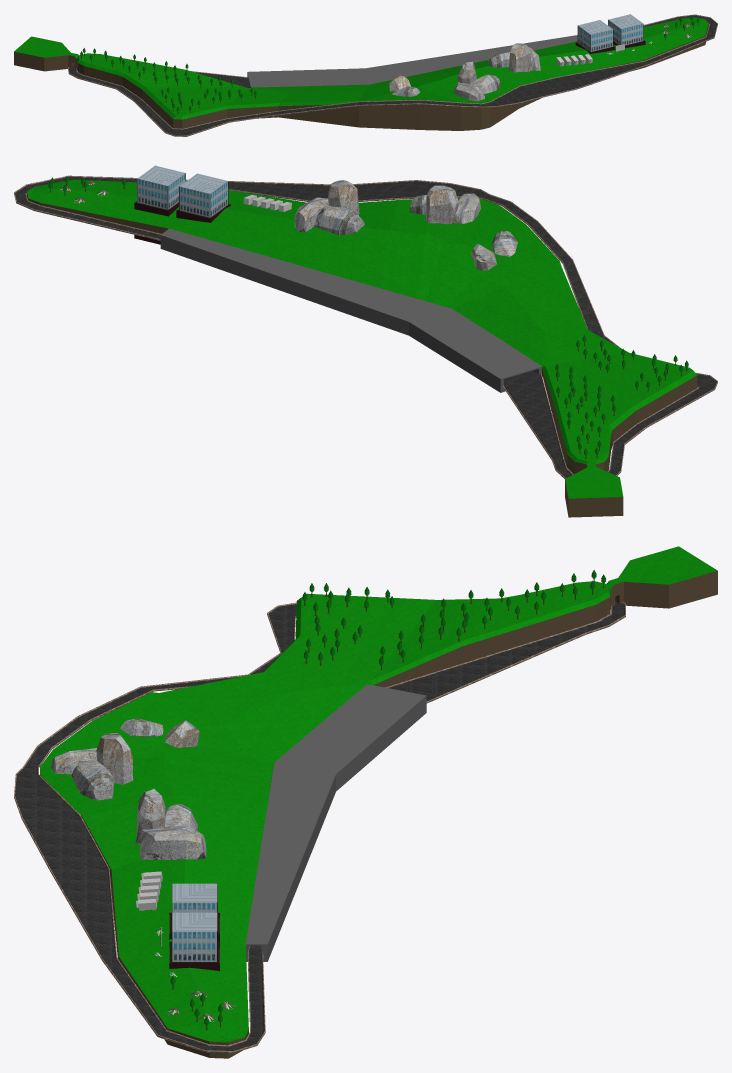
The model's file is new track test.fbx.
3 views of the same model, one above another, from view 1: azimuth 30°, elevation 25°; view 2: azimuth 150°, elevation 25°; view 3: azimuth 270°, elevation 25° (orthographic). The views are drawn at different scales.
Visible parts, largest first — view 1: map_terrain, track_sidewalls.001, tunnel, rocks, building, trees, contrainers; view 2: map_terrain, tunnel, track_sidewalls.001, rocks, building, trees; view 3: map_terrain, track_sidewalls.001, tunnel, rocks, building, trees, contrainers.
Boxes of the visible parts, x1,y1,x2,y2 form: map_terrain: [14, 17, 708, 130]; track_sidewalls.001: [68, 14, 717, 136]; tunnel: [247, 35, 577, 87]; rocks: [388, 43, 540, 101]; building: [575, 14, 645, 53]; trees: [80, 15, 699, 114]; contrainers: [556, 54, 592, 66]; map_terrain: [26, 179, 697, 517]; tunnel: [160, 228, 542, 392]; track_sidewalls.001: [14, 175, 717, 478]; rocks: [294, 180, 517, 270]; building: [134, 165, 230, 244]; trees: [48, 176, 688, 458]; map_terrain: [40, 546, 717, 1058]; track_sidewalls.001: [14, 601, 625, 1052]; tunnel: [245, 684, 426, 961]; rocks: [51, 718, 206, 859]; building: [169, 883, 219, 970]; trees: [170, 570, 605, 1030]; contrainers: [135, 871, 162, 910].
Bounding box in the file's own units: 118205 × 12389 × 72488.
